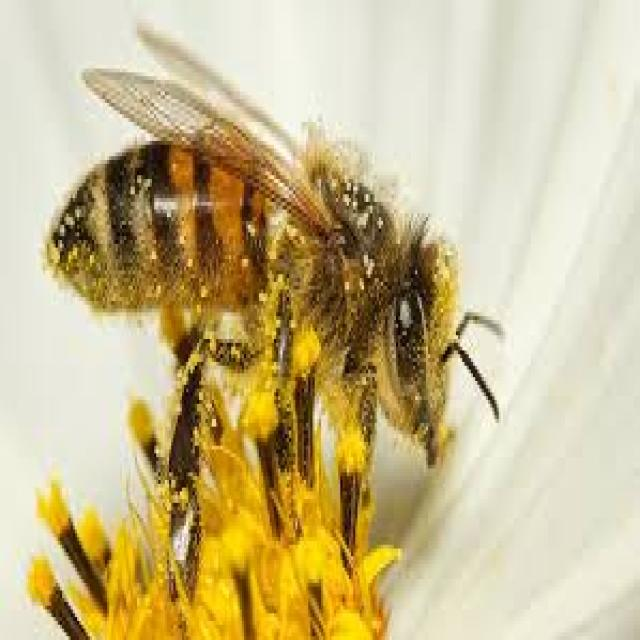Bees: (43, 21, 505, 586)
